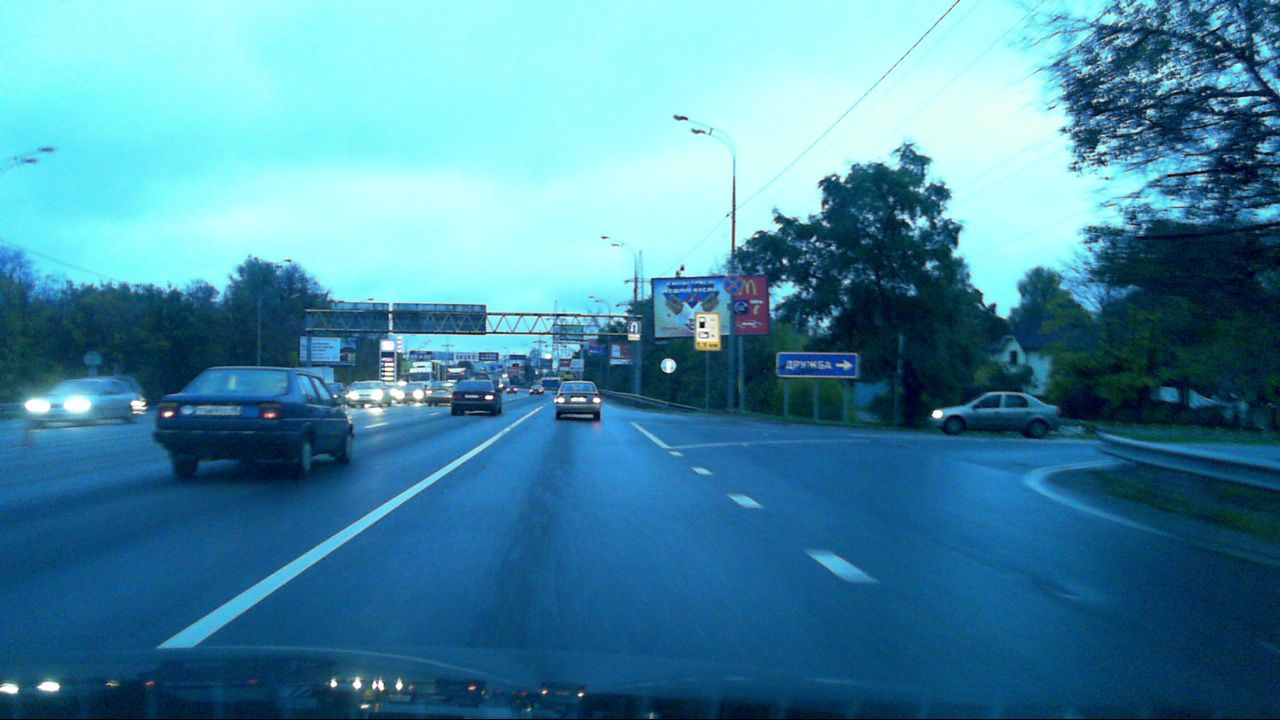No Parking: (723, 275, 743, 294)
